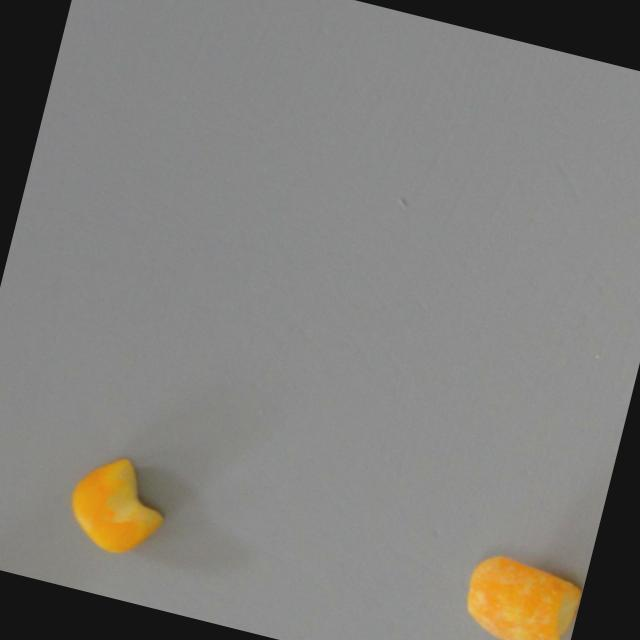no_canjicado: (60, 447, 174, 561)
pelicula: (456, 550, 586, 640)
